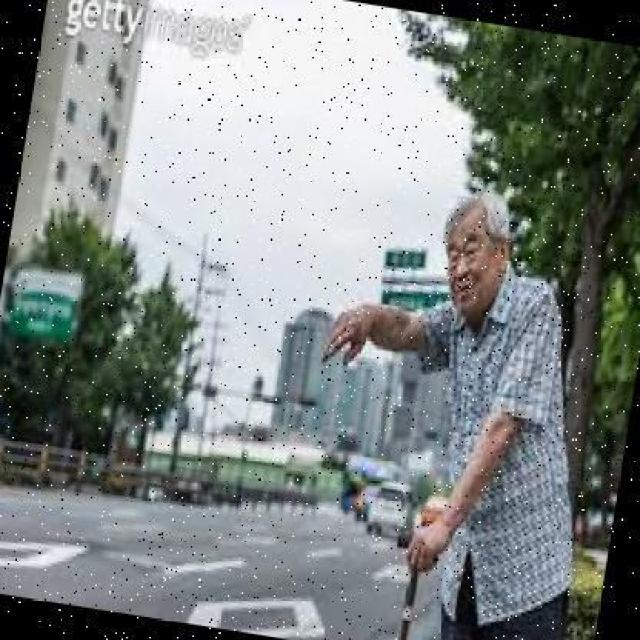-: (276, 166, 636, 639)
